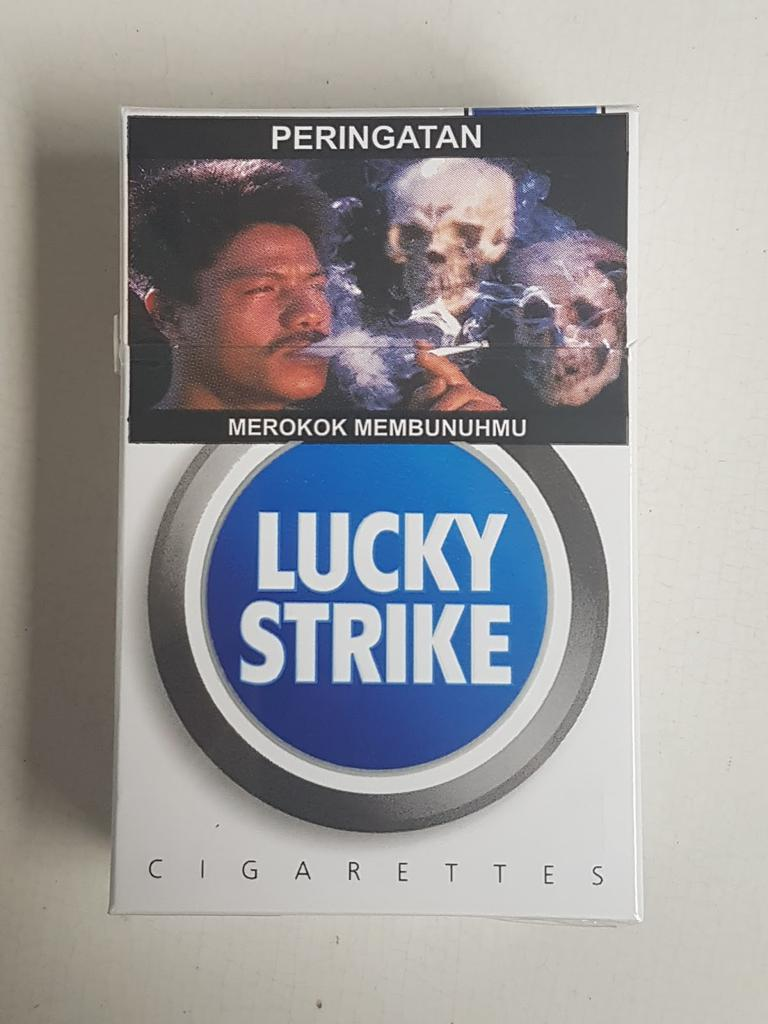lucky_strike_blue: (122, 113, 628, 916)
